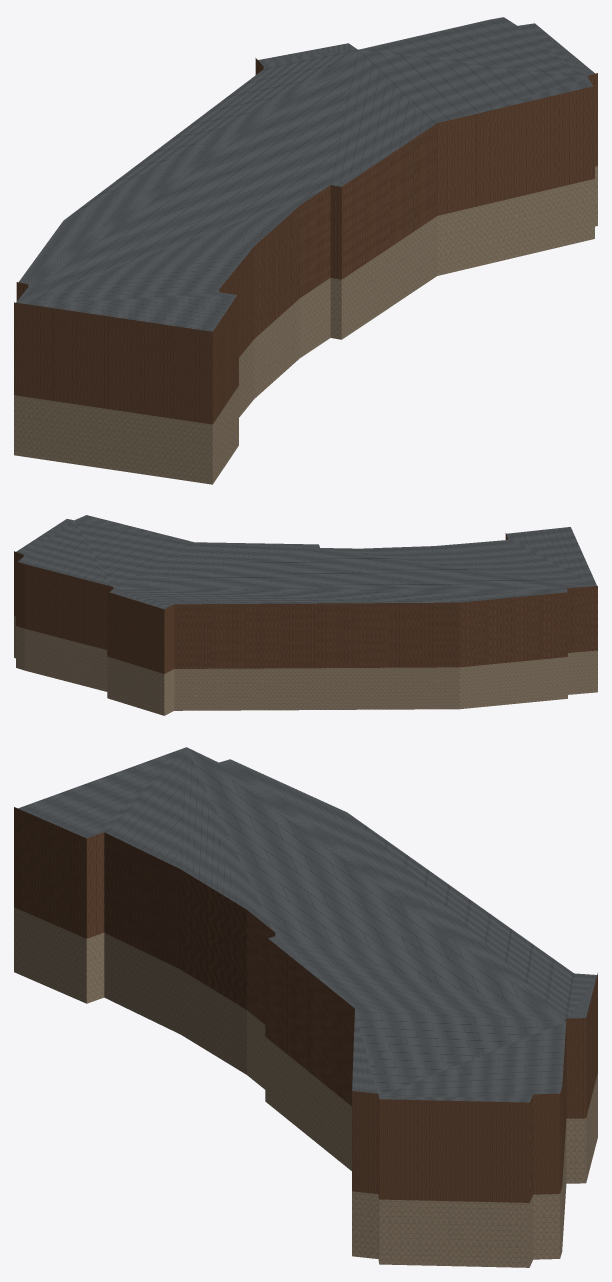
Rendered from core_0000.gltf.
3 views of the same model, one above another, from view 1: azimuth 30°, elevation 25°; view 2: azimuth 150°, elevation 25°; view 3: azimuth 270°, elevation 25° (orthographic). The views are drawn at different scales.
Visible parts, largest first — view 1: core_0000; view 2: core_0000; view 3: core_0000.
Boxes of the visible parts, x1,y1,x2,y2 form: core_0000: (14,17,597,484); core_0000: (14,515,597,715); core_0000: (14,747,597,1267).
Size of the model in its own units: 60.36 by 12.98 by 41.55.
3 materials, 3 textured.
